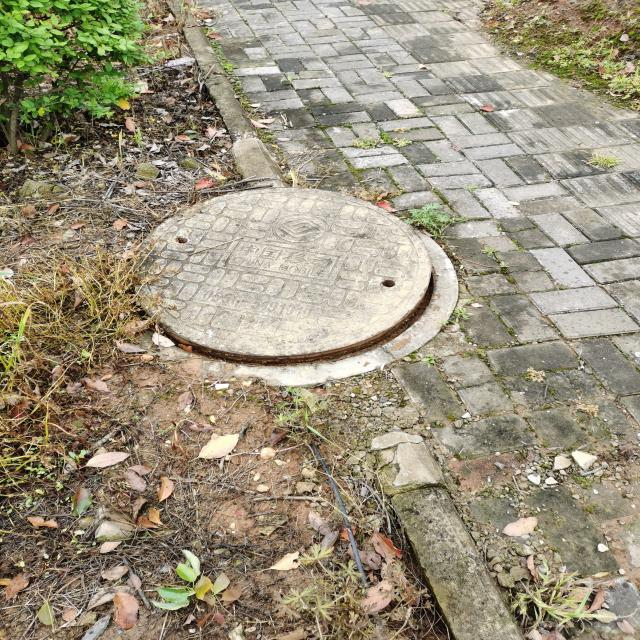Lose: (136, 184, 459, 384)
